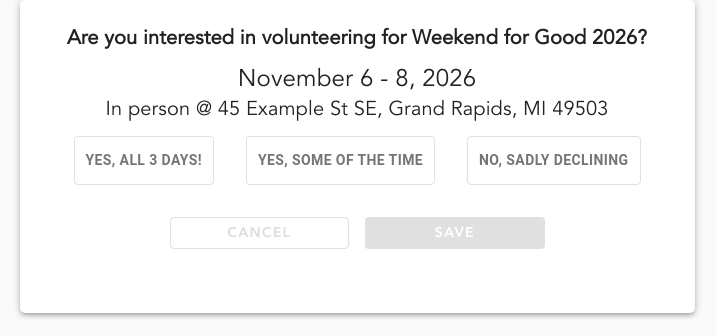
Test case: EventCard RSVP › only enables Save and Cancel once something changes
Expected: the button "Save" is disabled, [365,217,544,249]
Click the button with aria-label "attending": (144, 160) [74,136,214,185]
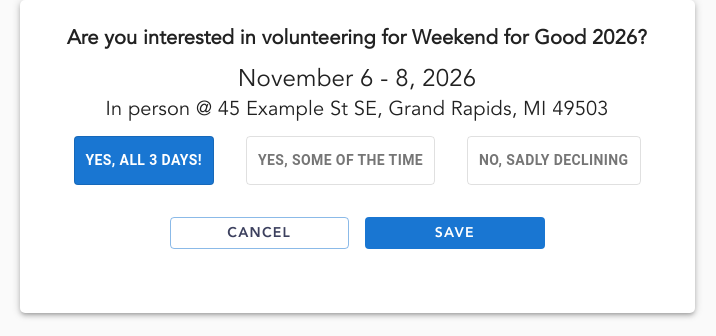
Expected: the button "Save" is enabled, [365,217,544,249]
Expected: the button "Cancel" is enabled, [170,217,349,249]
